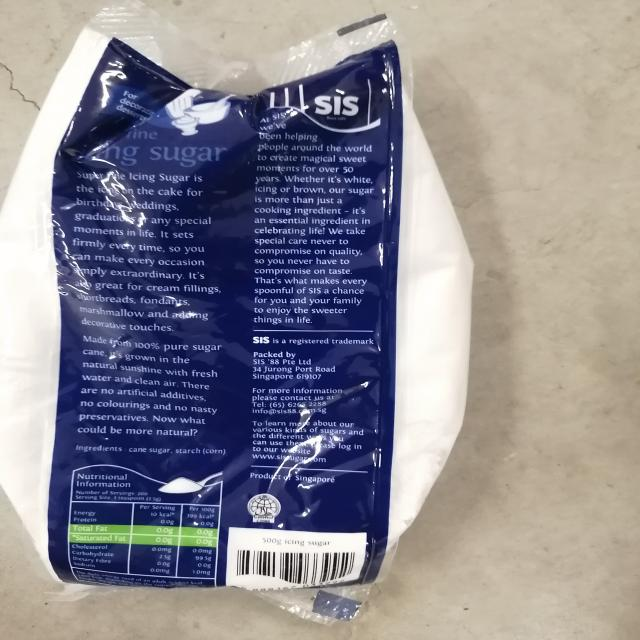object_name: (29, 47, 405, 602)
